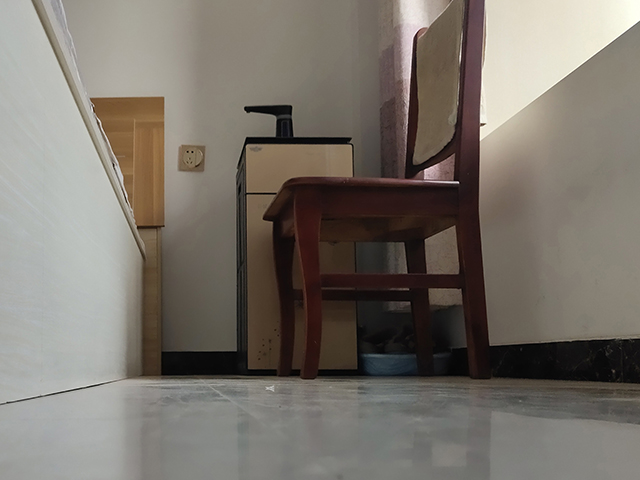bed: (1, 1, 165, 409)
stool: (261, 1, 493, 381)
